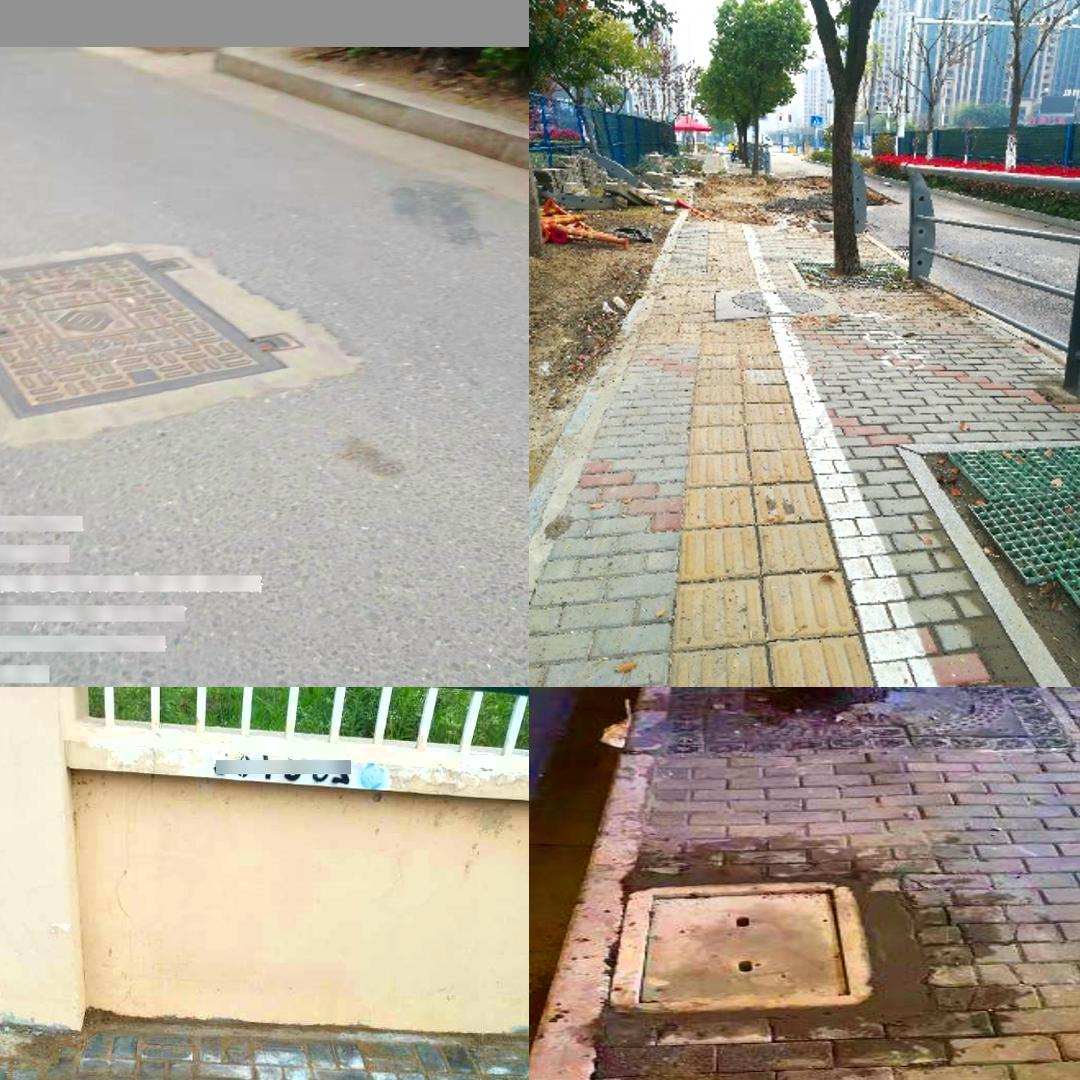good: (610, 865, 960, 1064), (0, 244, 338, 412), (733, 285, 828, 314)
